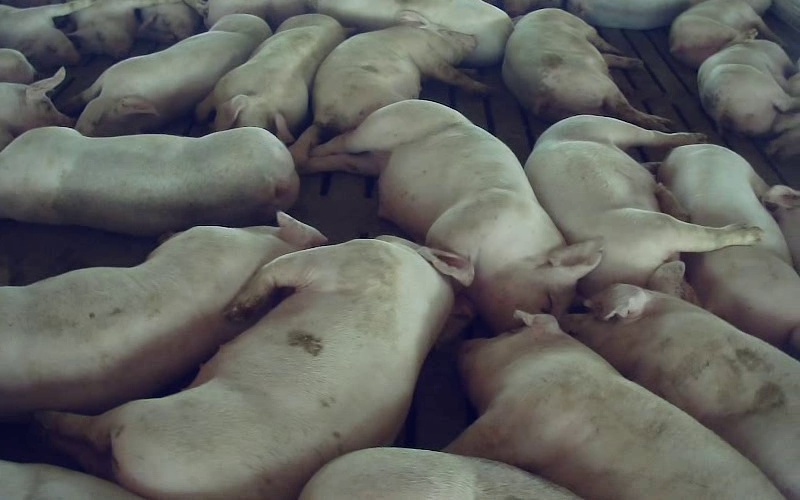pig: (39, 236, 473, 496), (306, 100, 600, 331), (0, 213, 325, 416), (446, 311, 781, 499), (562, 260, 799, 499), (525, 116, 760, 295), (0, 124, 318, 234), (659, 144, 799, 355), (76, 15, 270, 136), (312, 11, 486, 134), (502, 8, 668, 129), (197, 14, 344, 142), (316, 0, 512, 66), (698, 40, 793, 135), (669, 0, 778, 67), (0, 67, 72, 150)
